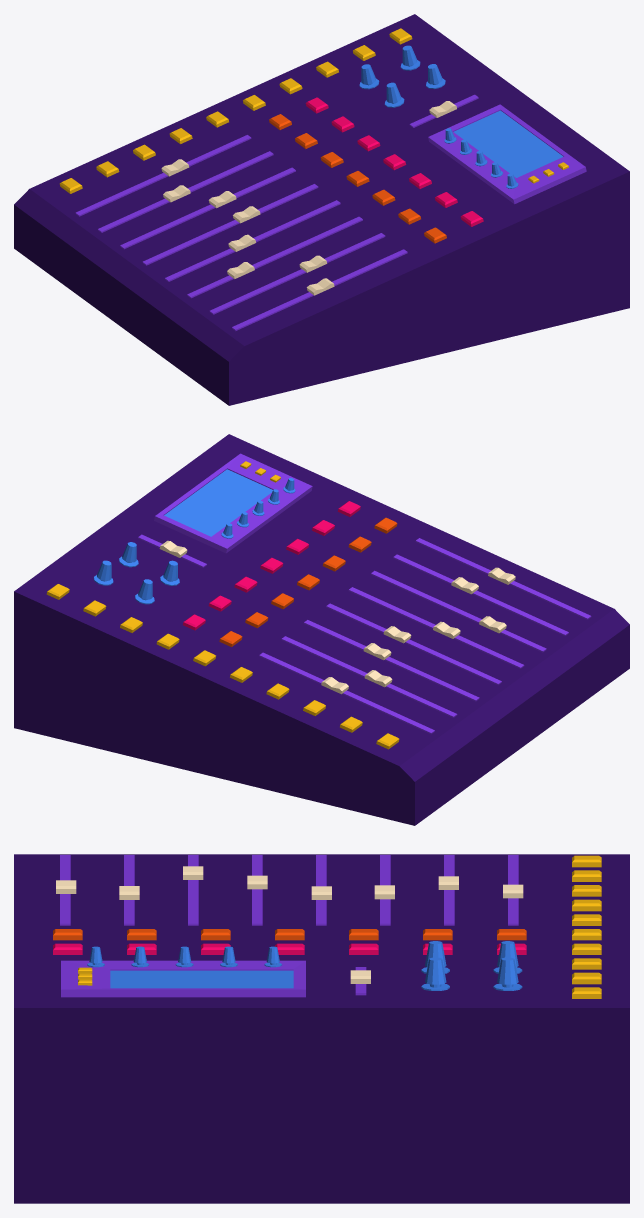
Rendered from Mesa mezclas.fbx.
3 views of the same model, one above another, from view 1: azimuth 30°, elevation 25°; view 2: azimuth 150°, elevation 25°; view 3: azimuth 270°, elevation 25° (orthographic). The views are drawn at different scales.
Visible parts, largest first — view 1: Mesa Mezclas, Carriles, Pantalla, Palanca esa, Botones.002, Cosa que gira, Botones.001, Botones.003; view 2: Mesa Mezclas, Carriles, Pantalla, Palanca esa, Botones.002, Cosa que gira, Botones.001, Botones.003; view 3: Mesa Mezclas, Pantalla, Carriles, Botones.002, Cosa que gira, Palanca esa, Botones.003, Botones.001.
Boxes of the visible parts, x1,y1,x2,y2 form: Mesa Mezclas: (14,14,629,405); Carriles: (75,94,478,330); Pantalla: (428,104,586,204); Palanca esa: (161,101,456,295); Botones.002: (59,28,412,193); Cosa que gira: (359,45,518,188); Botones.001: (305,97,483,226); Botones.003: (269,114,446,243); Mesa Mezclas: (14,434,629,825); Carriles: (138,534,591,733); Pantalla: (154,453,312,553); Palanca esa: (159,540,515,694); Botones.002: (46,584,399,749); Cosa que gira: (93,478,295,604); Botones.001: (183,501,360,630); Botones.003: (219,517,397,646); Mesa Mezclas: (14,854,629,1203); Pantalla: (61,960,305,997); Carriles: (60,855,518,995); Botones.002: (572,855,601,998); Cosa que gira: (87,941,522,990); Palanca esa: (56,866,523,983); Botones.003: (53,929,526,940); Botones.001: (53,943,526,954).
Bounding box in the file's own units: 400 × 140 × 371.
